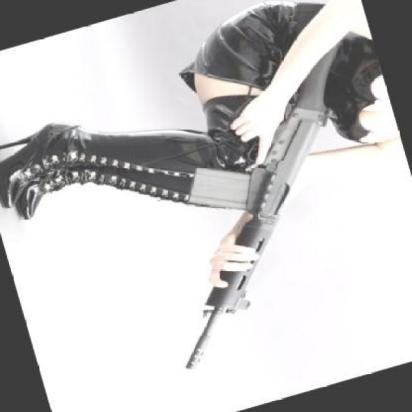Gun: (103, 42, 408, 372)
